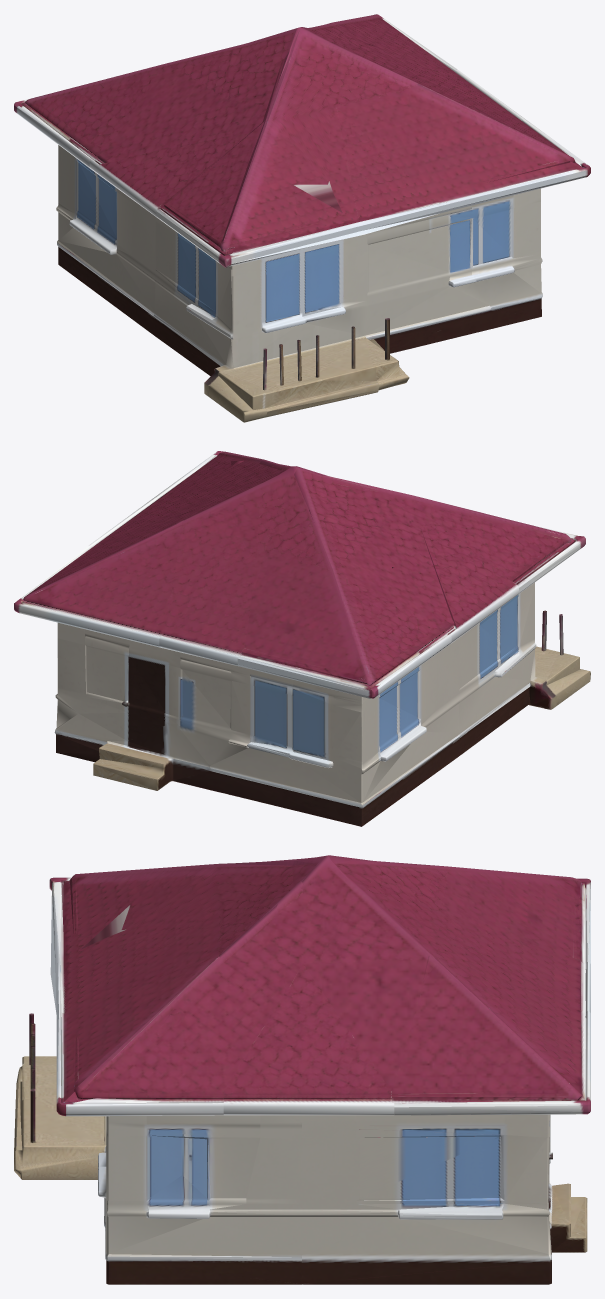
The model's file is low poly house.glb.
3 renders of one model, top to bottom at view 1: azimuth 30°, elevation 25°; view 2: azimuth 150°, elevation 25°; view 3: azimuth 270°, elevation 25°, orthographic. The views are drawn at different scales.
Bounding box in the file's own units: 1.78 × 1.21 × 1.91.
Materials: 1 (1 with a texture image).
